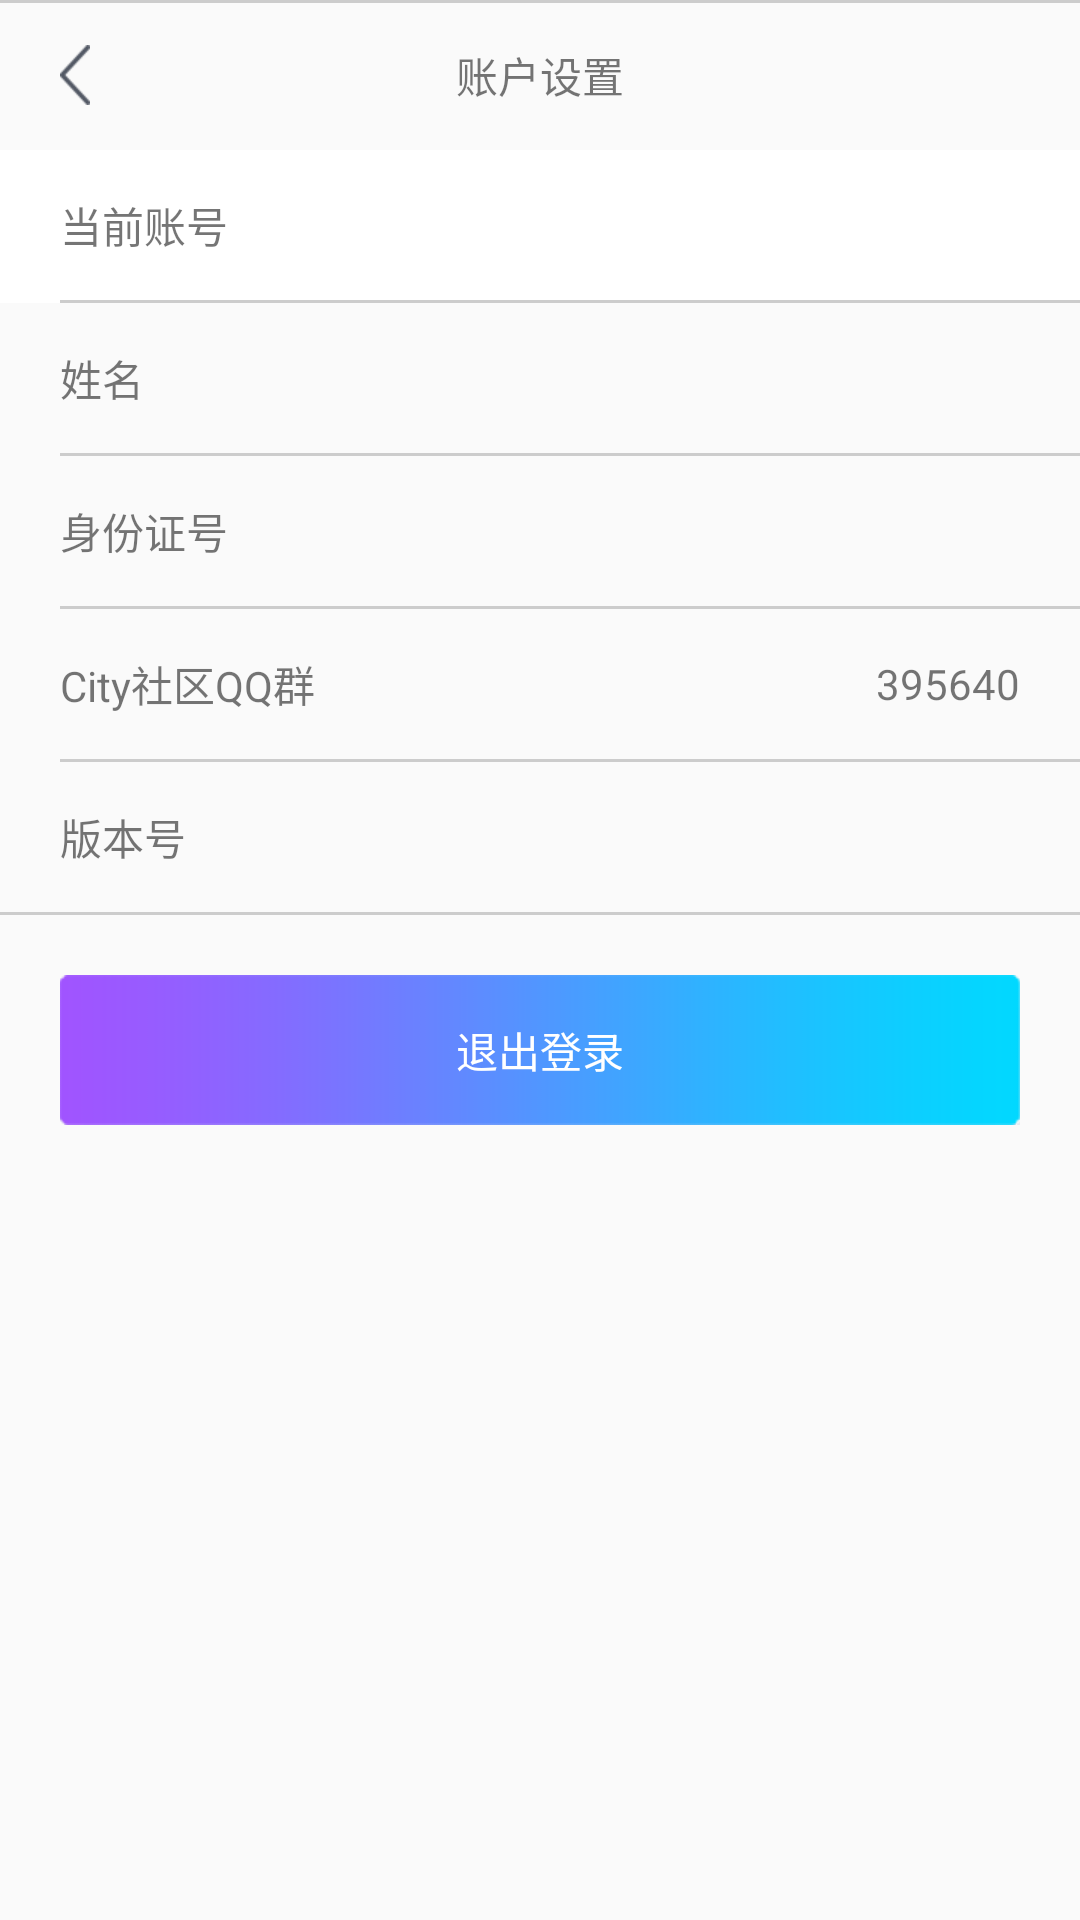

Icons on this 1080px x 1920px Android screen, each with the point to tap as point (x, y):
back nor: point (75, 75)
